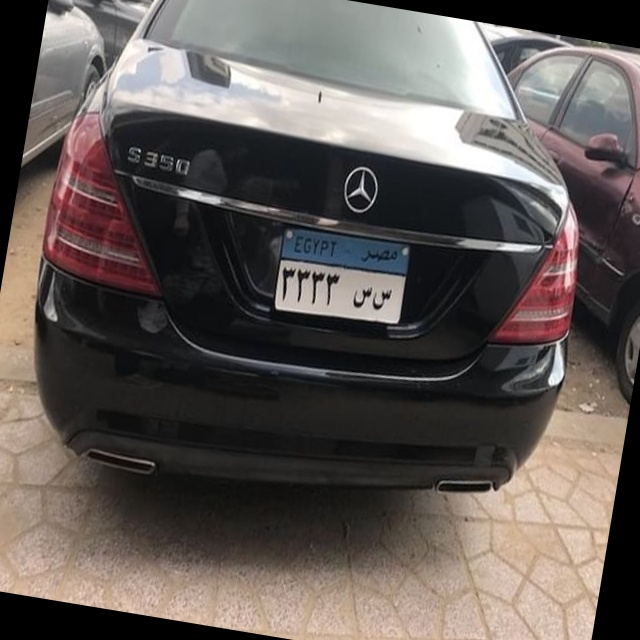License Plate: (268, 221, 416, 334)
